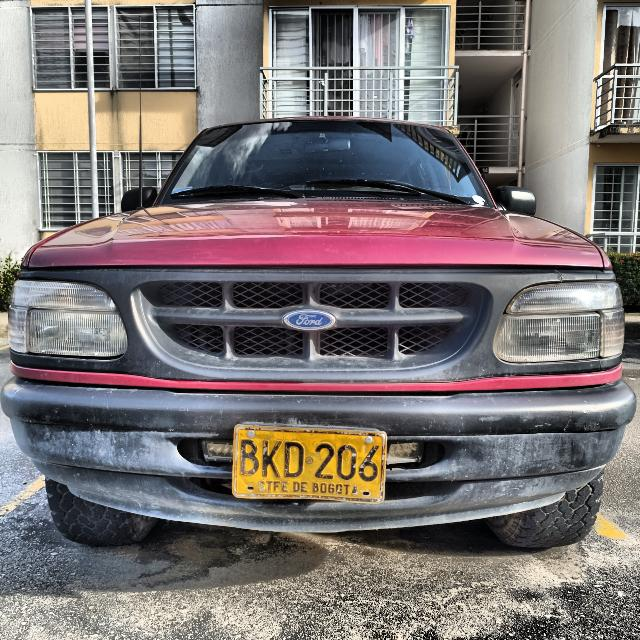plate: (236, 428, 385, 501)
